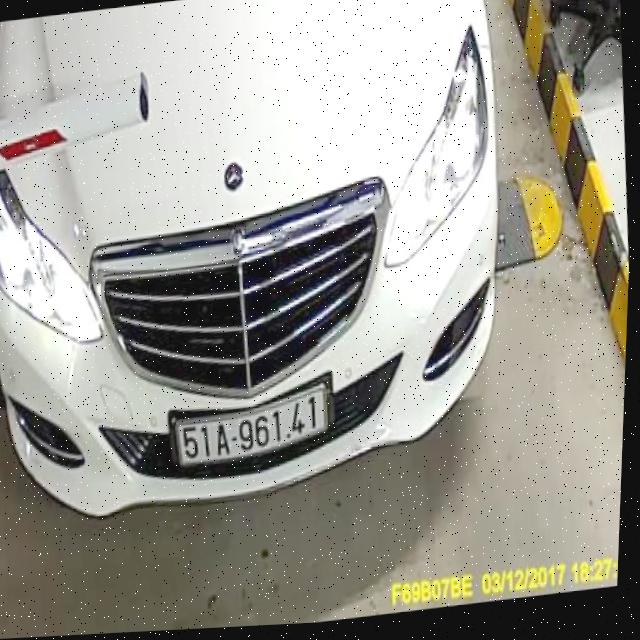car: (0, 0, 533, 537)
plate: (166, 386, 342, 470)
